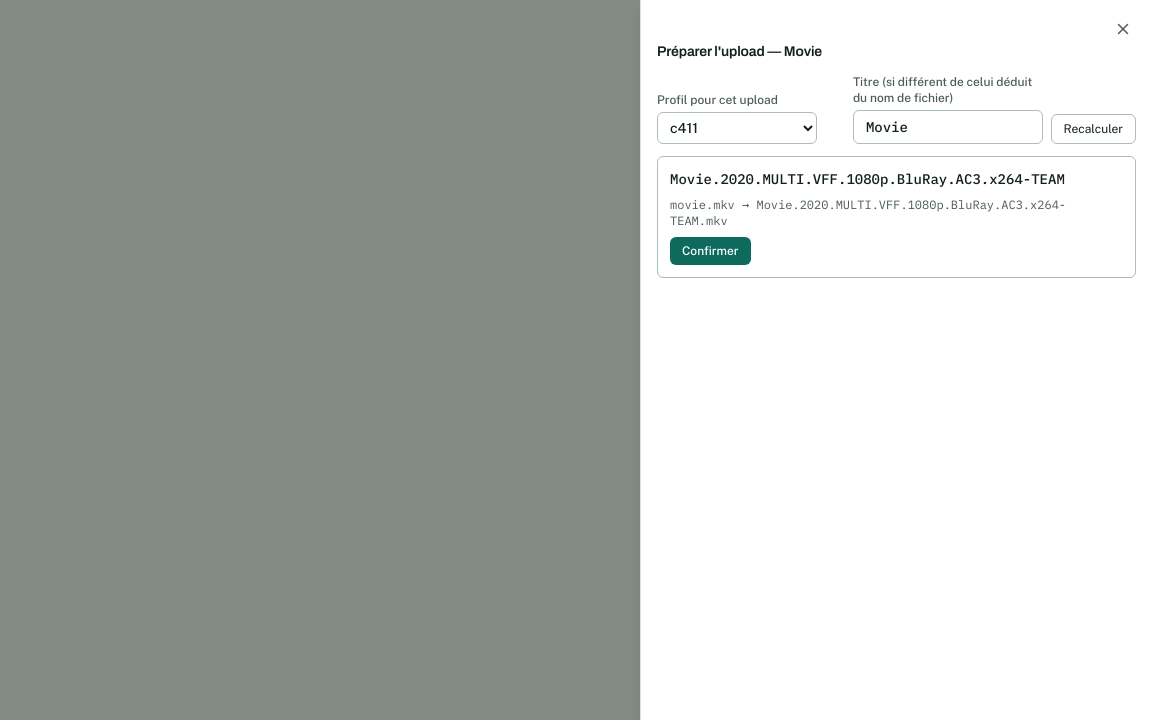
Test case: affiche une barre de progression et un bouton Annuler pendant une tache en cours
Click the button "Confirmer": point(710, 251) top-left (670, 237), bottom-right (751, 265)
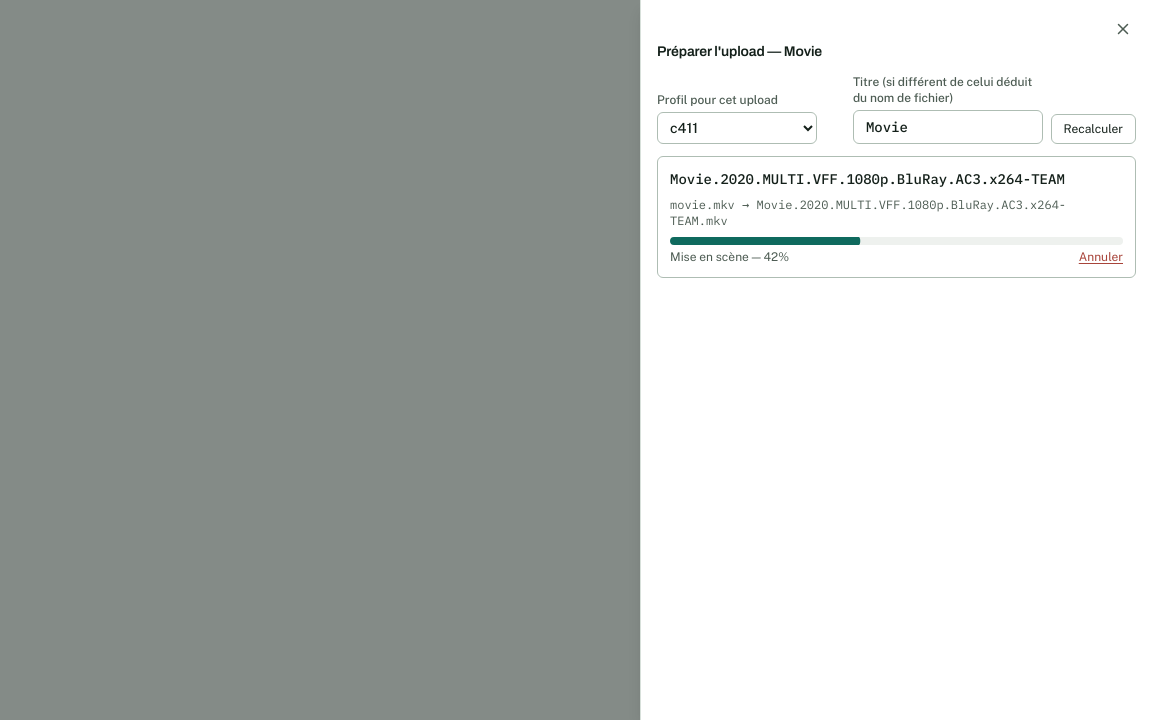
expect the text "Mise en scène — 42%" is shown: met, box top-left (670, 249), bottom-right (789, 265)
expect the button "Annuler" is shown: met, box top-left (1079, 249), bottom-right (1123, 265)
expect the button "Confirmer" is gone: met
